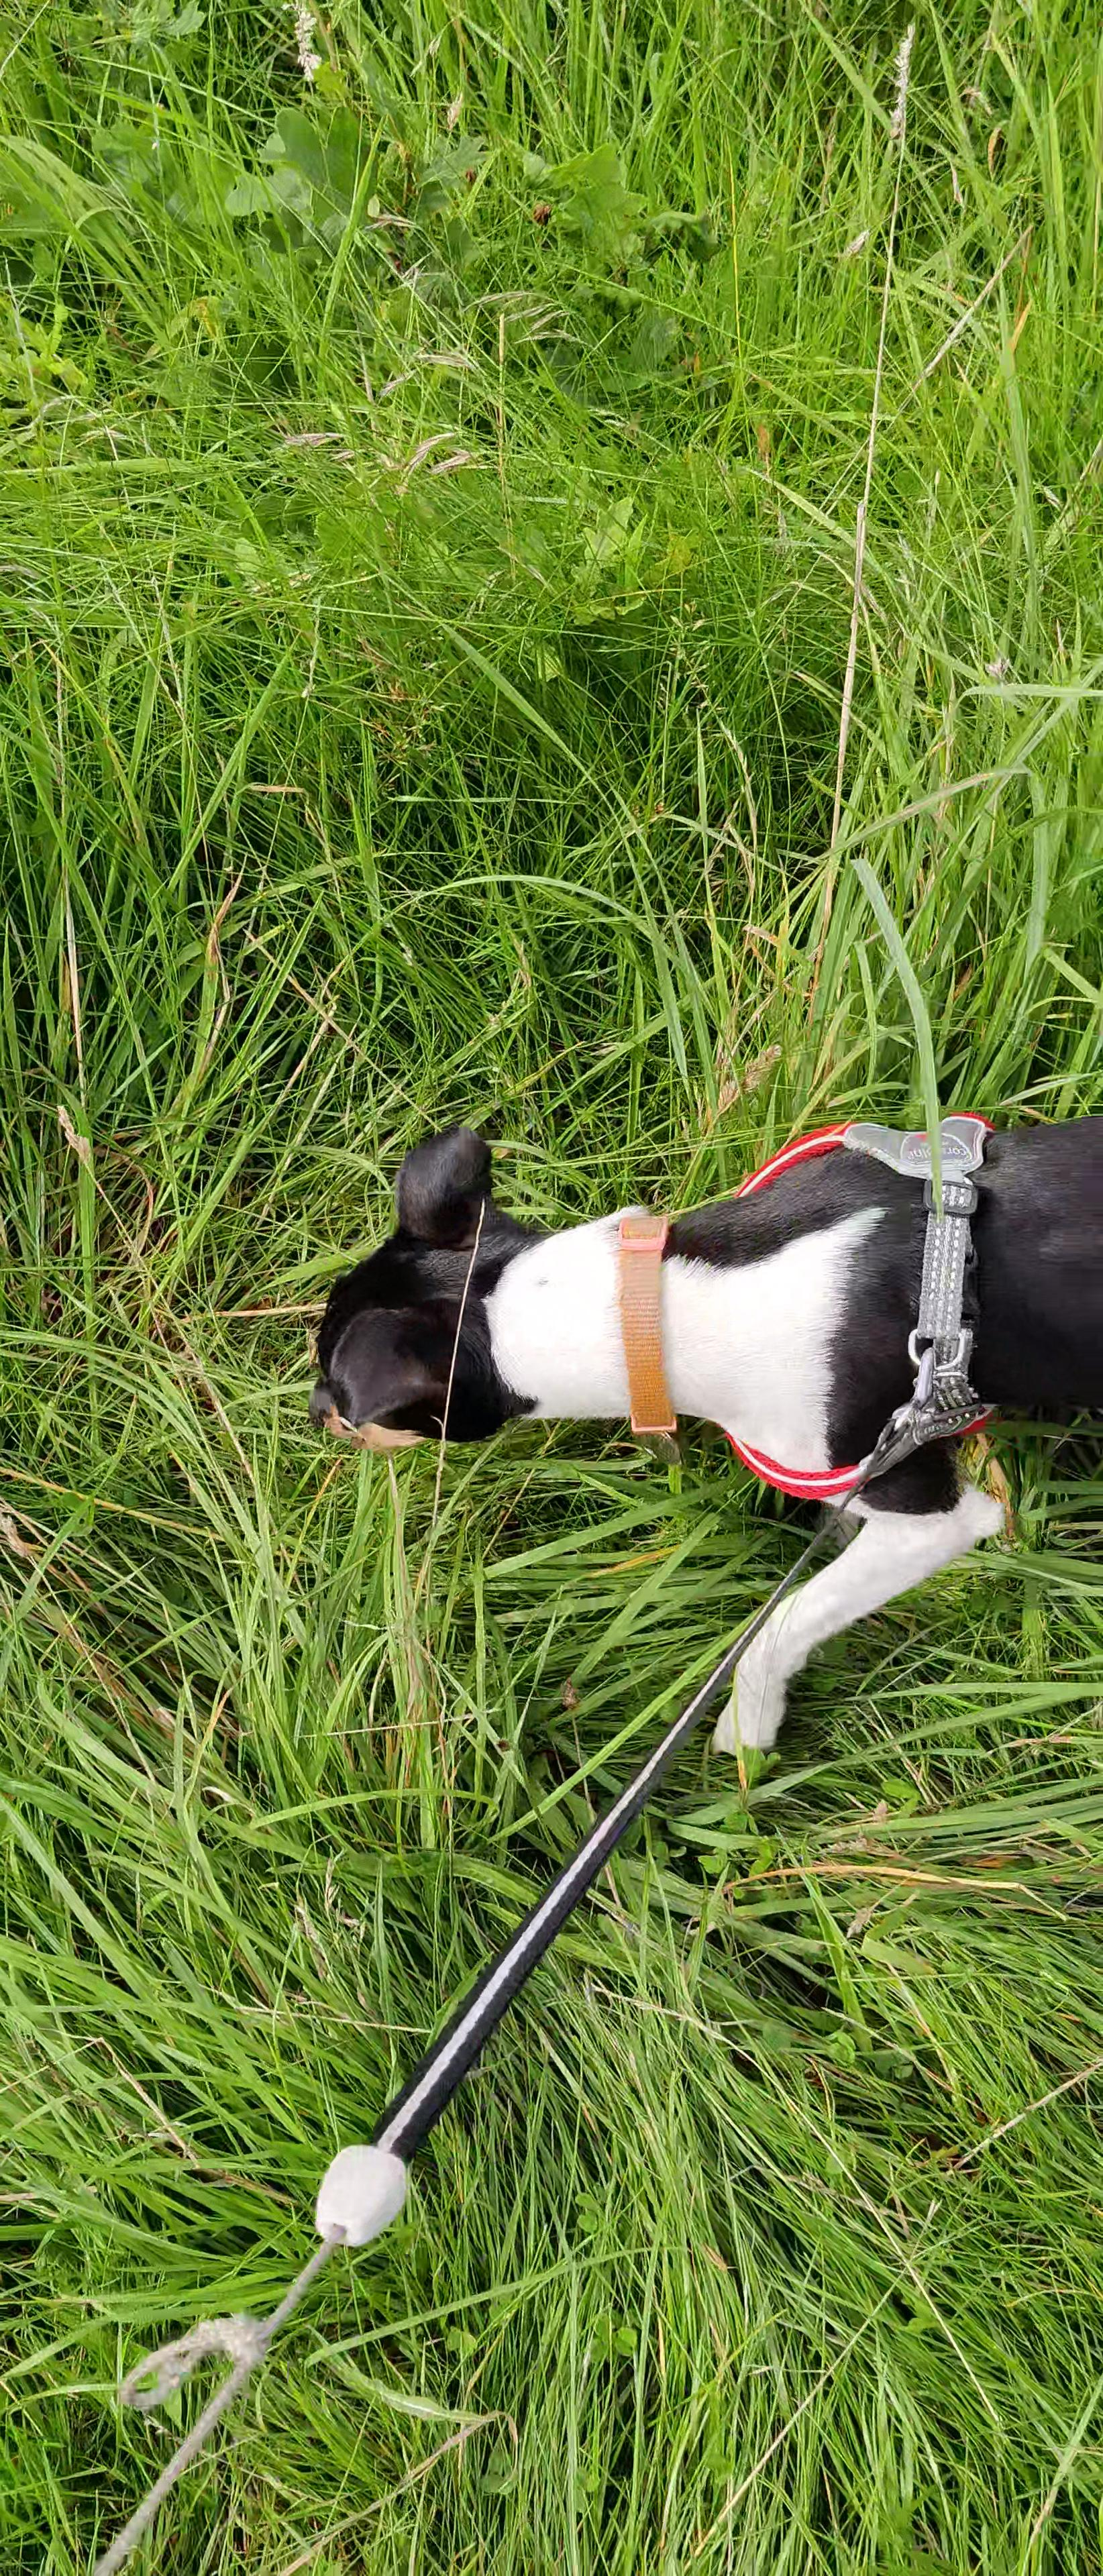Dog: (307, 1084, 1103, 1778)
